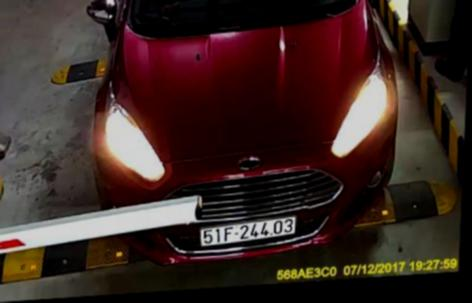License_Plate: (196, 216, 296, 247)
